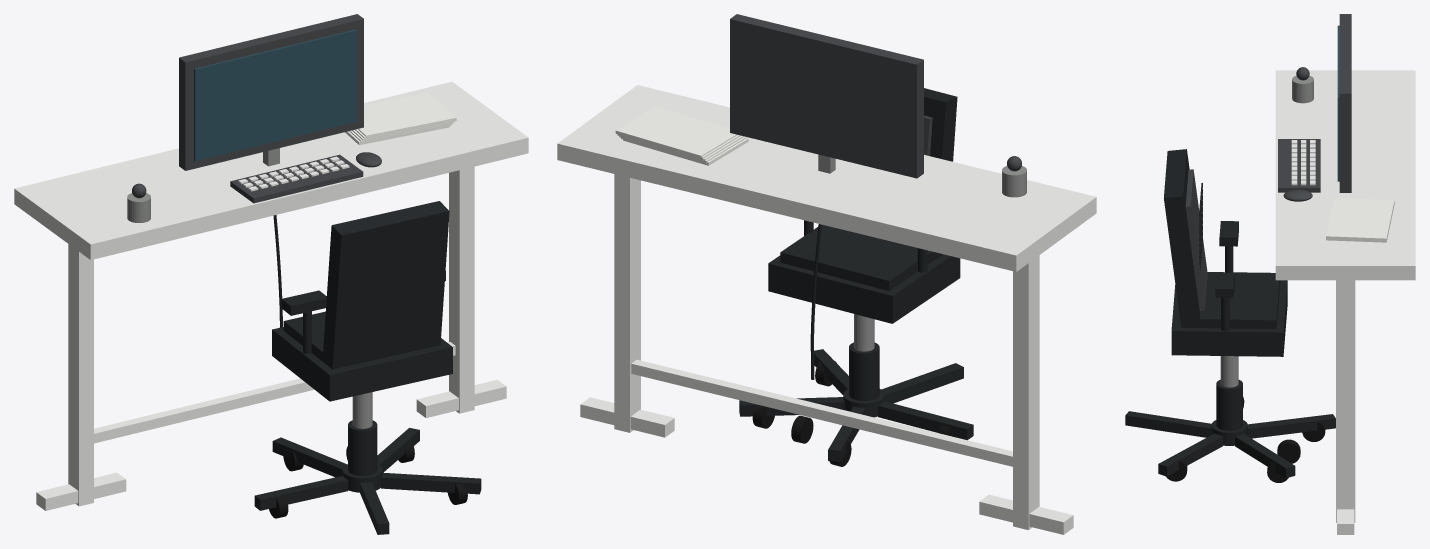
Rendered from desk (1).glb.
The picture shows the model from 3 angles, left to right: view 1: azimuth 30°, elevation 25°; view 2: azimuth 150°, elevation 25°; view 3: azimuth 270°, elevation 25°; orthographic projection. The views are drawn at different scales.
Visible parts, largest first — view 1: White Desk Top, Ergonomic Backrest, Monitor Screen, Monitor, Desk Leg, Desk Leg.001, Chair Seat, Desk Horizontal Support, Paper.004, Keyboard, Chair Base Leg.002, Desk Foot.001 (+10 smaller); view 2: White Desk Top, Monitor, Desk Leg, Desk Leg.001, Chair Seat, Desk Horizontal Support, Seat Cushion, Paper.004, Ergonomic Backrest, Desk Foot.001, Desk Foot, Chair Base Leg (+7 smaller); view 3: White Desk Top, Desk Leg.001, Chair Seat, Ergonomic Backrest, Seat Cushion, Paper.004, Monitor, Keyboard, Mesh Back Cushion, Chair Base Leg.001, Chair Base Leg.004, Lower Chair Column (+10 smaller).
Boxes of the visible parts, left/top/right/bottom form: White Desk Top: left=14, top=81, right=528, bottom=259; Ergonomic Backrest: left=322, top=201, right=449, bottom=369; Monitor Screen: left=194, top=29, right=356, bottom=161; Monitor: left=179, top=14, right=363, bottom=170; Desk Leg: left=68, top=244, right=93, bottom=506; Desk Leg.001: left=449, top=166, right=474, bottom=413; Chair Seat: left=272, top=327, right=452, bottom=401; Desk Horizontal Support: left=94, top=342, right=455, bottom=443; Paper.004: left=357, top=92, right=456, bottom=136; Keyboard: left=230, top=154, right=363, bottom=203; Chair Base Leg.002: left=381, top=472, right=481, bottom=494; Desk Foot.001: left=416, top=379, right=506, bottom=417; White Desk Top: left=557, top=85, right=1096, bottom=271; Monitor: left=730, top=14, right=923, bottom=178; Desk Leg: left=1013, top=255, right=1039, bottom=529; Desk Leg.001: left=614, top=174, right=640, bottom=432; Chair Seat: left=768, top=254, right=960, bottom=323; Desk Horizontal Support: left=631, top=359, right=1012, bottom=466; Seat Cushion: left=780, top=224, right=942, bottom=290; Paper.004: left=615, top=106, right=737, bottom=158; Ergonomic Backrest: left=924, top=88, right=957, bottom=255; Desk Foot.001: left=580, top=397, right=674, bottom=437; Desk Foot: left=979, top=494, right=1073, bottom=534; Chair Base Leg: left=878, top=401, right=973, bottom=440; White Desk Top: left=1275, top=70, right=1415, bottom=280; Desk Leg.001: left=1336, top=280, right=1355, bottom=522; Chair Seat: left=1171, top=280, right=1287, bottom=356; Ergonomic Backrest: left=1164, top=149, right=1200, bottom=327; Seat Cushion: left=1182, top=272, right=1280, bottom=328; Paper.004: left=1326, top=198, right=1394, bottom=241; Monitor: left=1339, top=14, right=1351, bottom=192; Keyboard: left=1278, top=139, right=1320, bottom=192; Mesh Back Cushion: left=1185, top=169, right=1207, bottom=310; Chair Base Leg.001: left=1125, top=411, right=1211, bottom=437; Chair Base Leg.004: left=1248, top=414, right=1335, bottom=438; Lower Chair Column: left=1216, top=379, right=1242, bottom=430.
Size of the model in its own units: 4 by 3.48 by 2.38.
